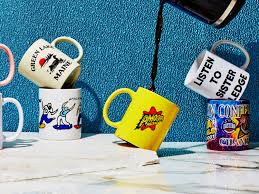mug: (95, 82, 186, 152), (18, 69, 97, 148), (174, 32, 249, 109), (11, 27, 86, 87)
